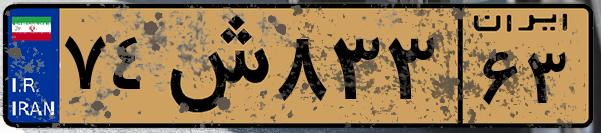3: (385, 28, 445, 110), (330, 28, 385, 110), (525, 38, 570, 115)
4: (110, 28, 158, 98)
6: (475, 38, 525, 113)
7: (57, 26, 110, 100)
8: (270, 28, 330, 110)
ش: (158, 12, 270, 120)
